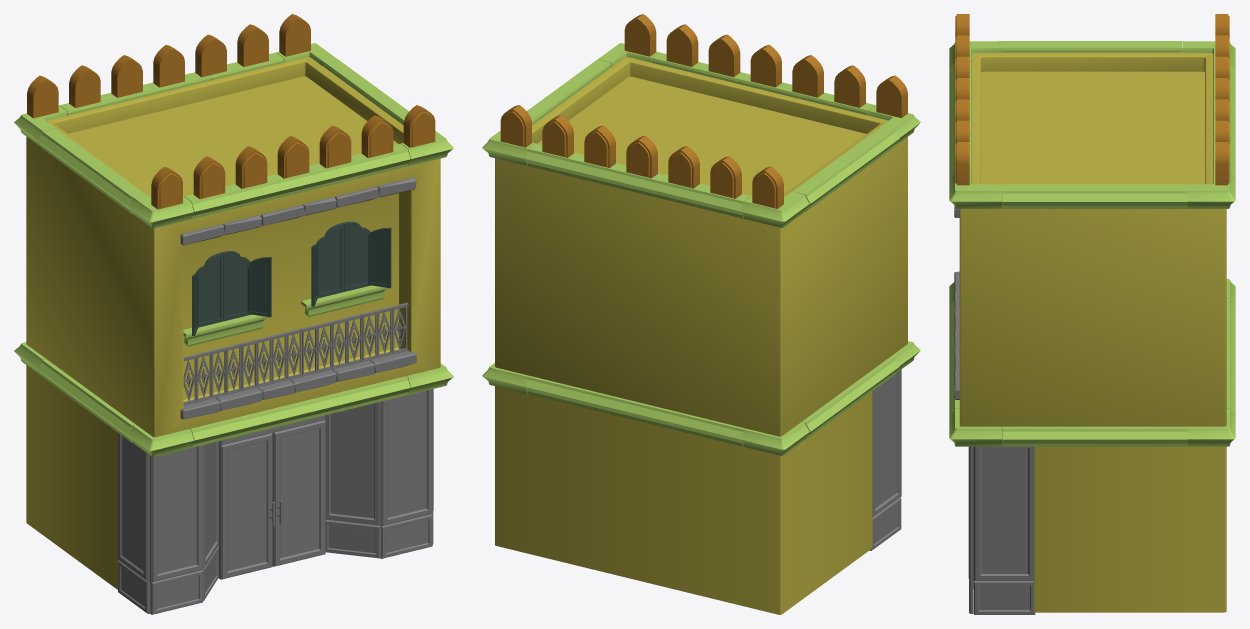
The model's file is SM_building_india_01.fbx.
The picture shows the model from 3 angles, left to right: view 1: azimuth 30°, elevation 25°; view 2: azimuth 150°, elevation 25°; view 3: azimuth 270°, elevation 25°; orthographic projection. The views are drawn at different scales.
Parts seen in each view (by area): view 1: Object32681; view 2: Object32681; view 3: Object32681.
Boxes of the visible parts, x1=… form: Object32681: x1=14, y1=14, x2=453, y2=614; Object32681: x1=482, y1=14, x2=920, y2=614; Object32681: x1=949, y1=14, x2=1235, y2=614.
Bounding box in the file's own units: 242 × 338 × 189.
